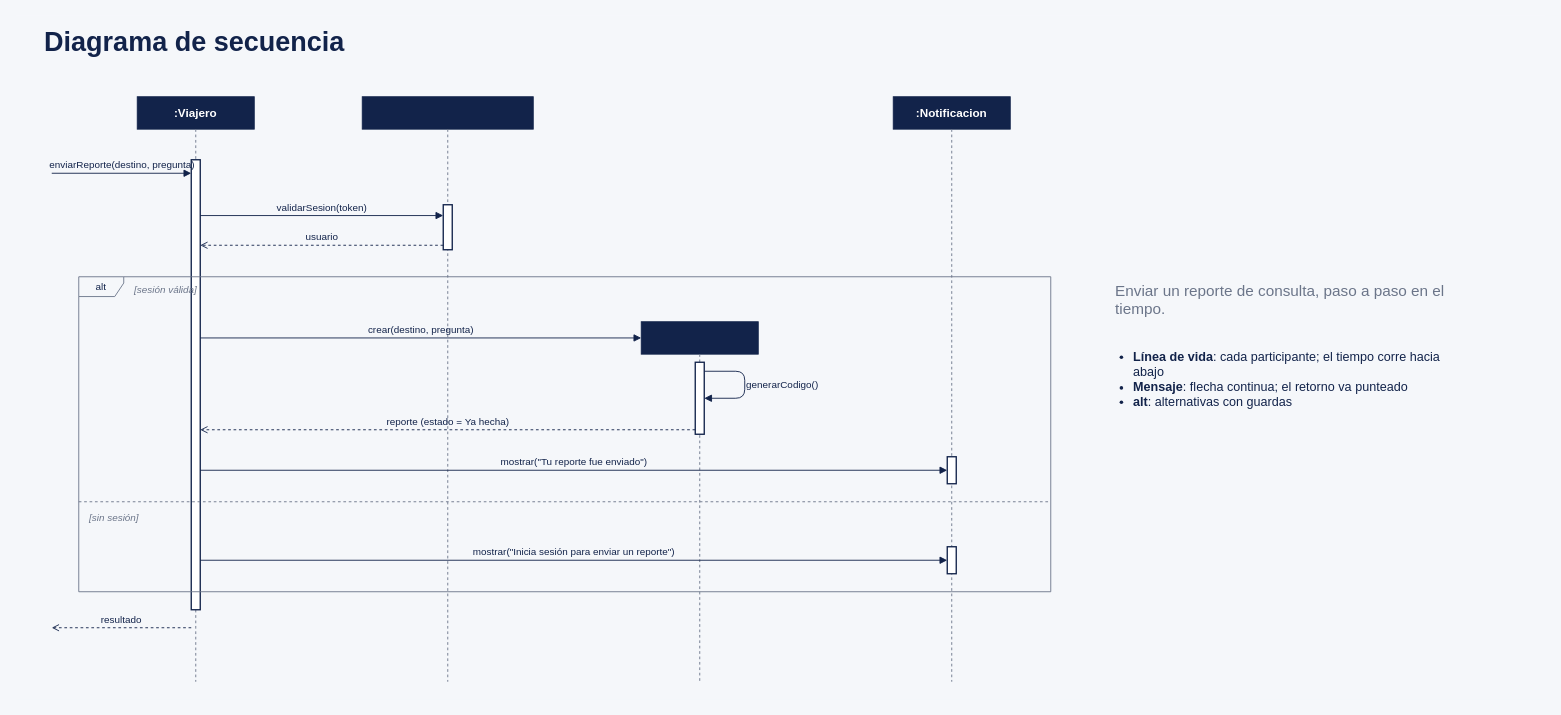
The diagram is 1561 pixels wide and 715 high, and some of its shapes have lost their labels. Each missing label, with the centre of its shape:
":Reporte" goes at point (699, 337).
":ServicioAutenticacion" goes at point (447, 112).
